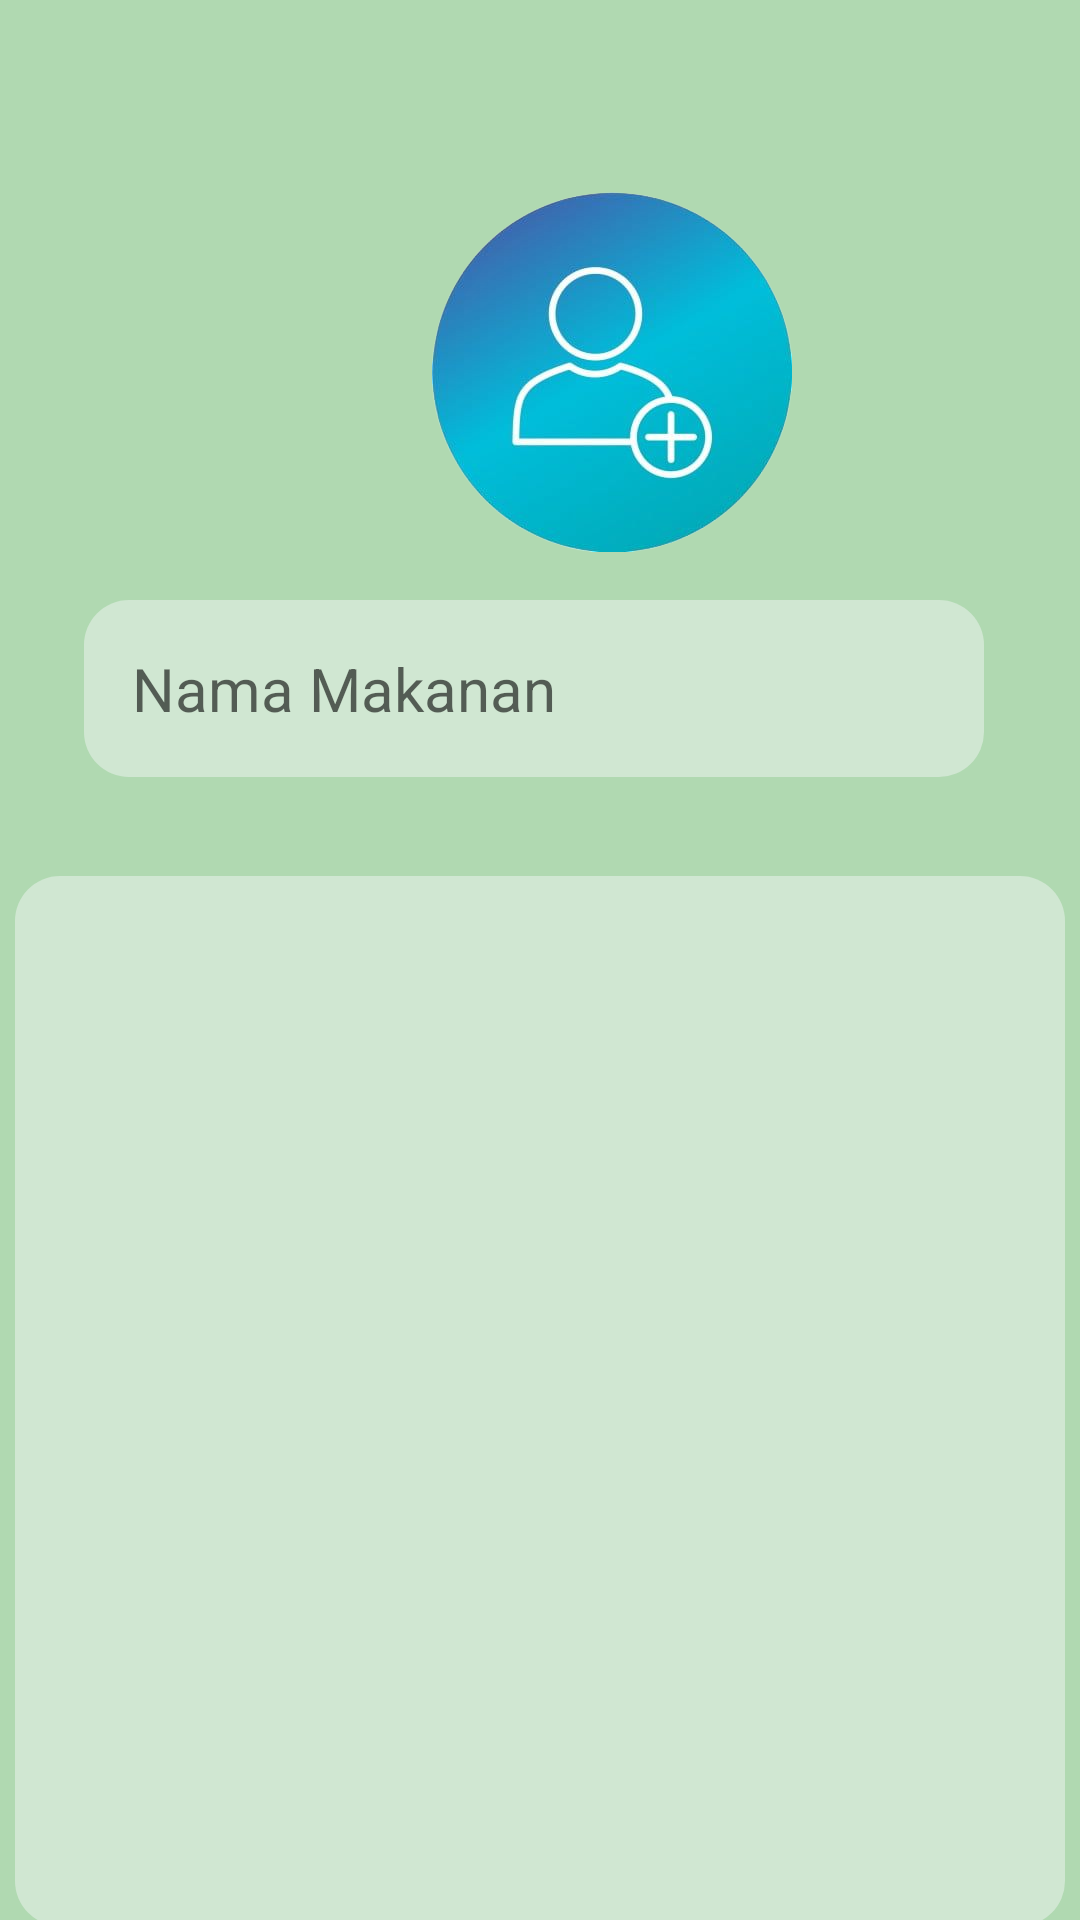

Point at icon controls on the screen. Image size 1080w x 1920h, points as point (x, y).
person: point (612, 372)
